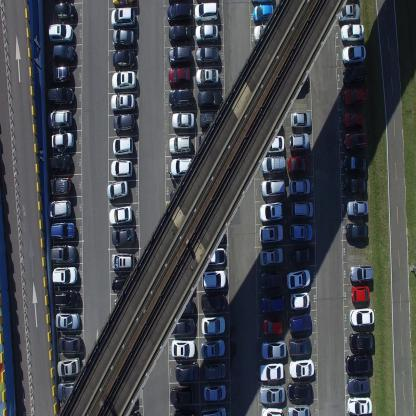car: (288, 356, 315, 379), (341, 86, 368, 108), (346, 355, 374, 376), (259, 200, 284, 223), (260, 292, 286, 314), (168, 86, 194, 108), (52, 264, 78, 286), (48, 22, 74, 44), (260, 339, 287, 360), (56, 355, 80, 378), (200, 290, 225, 312), (286, 268, 311, 290), (200, 338, 225, 360), (56, 379, 81, 401), (200, 315, 226, 336), (50, 242, 76, 263), (111, 69, 137, 90), (47, 152, 73, 173), (53, 288, 80, 308), (168, 134, 192, 156), (342, 63, 366, 85), (171, 110, 195, 132), (195, 66, 219, 88), (168, 44, 192, 66), (194, 0, 218, 22), (111, 7, 135, 29), (108, 204, 132, 226), (112, 112, 136, 134), (112, 48, 136, 70), (259, 246, 284, 267), (343, 132, 368, 153), (286, 154, 311, 175), (287, 380, 312, 401), (47, 108, 72, 129), (201, 268, 227, 288), (350, 332, 376, 352), (260, 177, 286, 197), (260, 384, 286, 404), (50, 220, 76, 240), (349, 308, 376, 327), (47, 86, 74, 105), (289, 312, 312, 334), (53, 0, 76, 22), (48, 64, 71, 86), (259, 223, 283, 244), (291, 245, 315, 266), (111, 226, 135, 247), (47, 198, 71, 219), (170, 157, 195, 177), (344, 221, 369, 241), (341, 43, 366, 63), (167, 2, 192, 22), (55, 310, 80, 330), (110, 252, 136, 271), (342, 154, 368, 173), (289, 221, 312, 242), (106, 179, 129, 200), (169, 385, 193, 405), (260, 270, 284, 290), (347, 376, 371, 396), (175, 362, 199, 382), (112, 275, 136, 295), (260, 134, 284, 154), (288, 336, 312, 356), (195, 45, 219, 65), (168, 23, 192, 43), (112, 28, 136, 48), (57, 332, 81, 352), (110, 158, 134, 178), (48, 176, 72, 196), (261, 155, 286, 174), (258, 362, 283, 381), (197, 88, 222, 107), (347, 396, 372, 415), (203, 246, 226, 266), (350, 264, 373, 284), (171, 296, 194, 316), (337, 2, 360, 22), (168, 66, 191, 86), (195, 22, 218, 42), (344, 176, 368, 195), (340, 23, 364, 42), (52, 44, 76, 63), (171, 318, 196, 336), (171, 340, 196, 358), (198, 110, 223, 128), (110, 92, 135, 110), (50, 132, 75, 150), (290, 109, 311, 130), (112, 135, 133, 156), (288, 132, 310, 152), (291, 198, 313, 218), (203, 382, 226, 401), (203, 361, 226, 380), (347, 199, 370, 218), (253, 23, 276, 42), (288, 177, 310, 196), (252, 3, 274, 22), (198, 132, 221, 150), (262, 317, 283, 336), (343, 111, 364, 129), (290, 292, 310, 310), (352, 284, 370, 304), (200, 404, 227, 415), (287, 403, 311, 415), (260, 405, 283, 415), (173, 406, 196, 416), (112, 0, 135, 8), (252, 0, 272, 5)
